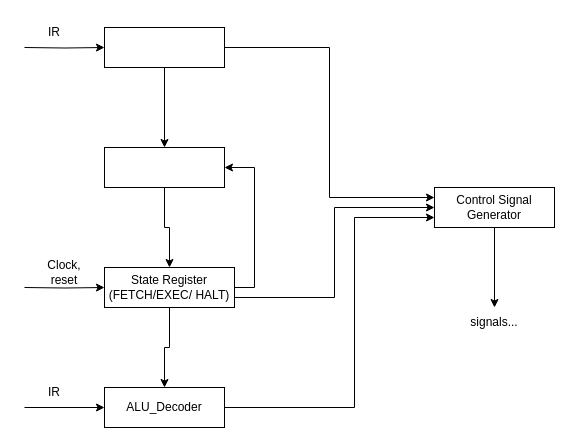
This 572x445 diagram has some shape labels left out. The shapes that lost their labels are listed below. From the top down, each one's centre as x and y in pixels, then its label:
At (x=164, y=47): "Intruction Decoder".
At (x=164, y=167): "Next-State Logic".
